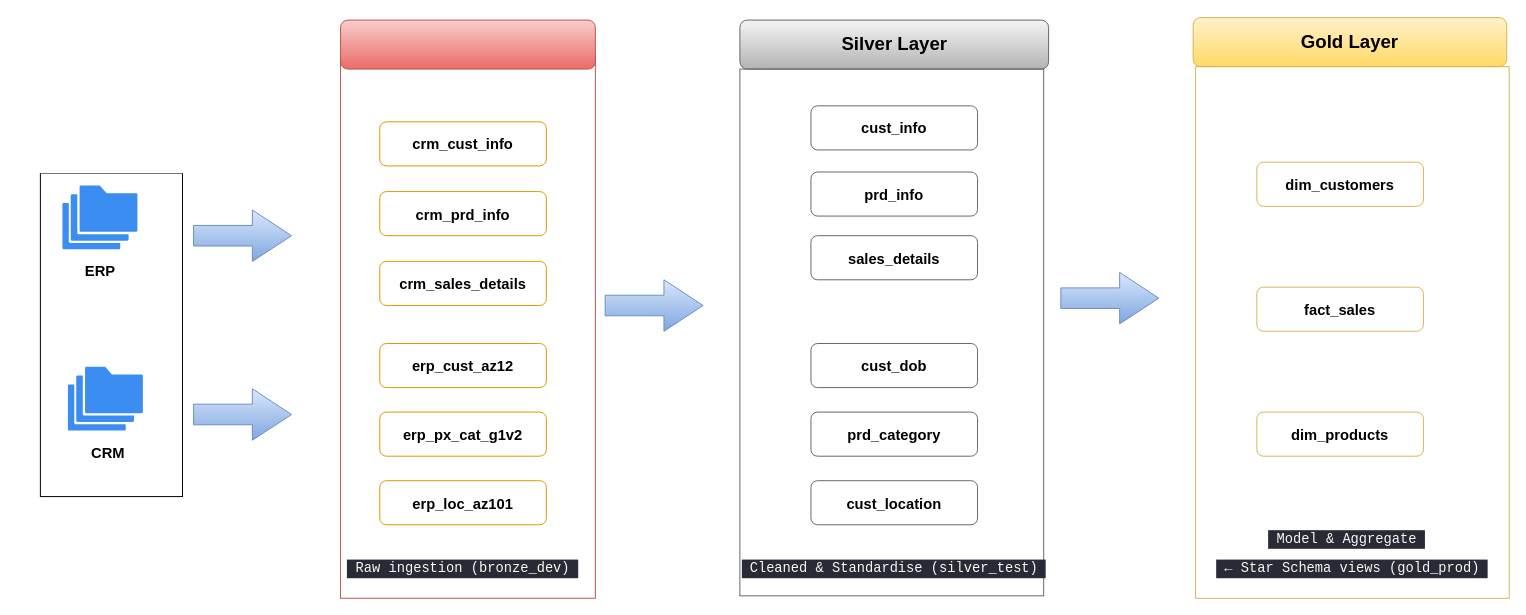
This 1526x615 diagram has some shape labels left out. The shapes that lost their labels are listed below. From the top down, each one's centre as x and y in pixels, then its label:
At (x=467, y=44): "Bronze Layer".
At (x=105, y=143): "Sources".
